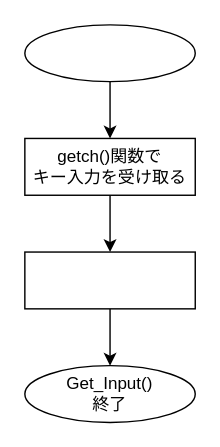
The diagram is 220 pixels wide and 447 high, and some of its shapes have lost their labels. The box of each missing label's shape, as (x1, y1, x2, y2) in pixels:
Get_Input() 開始: (23, 23, 195, 82)
受け取った キー入力を返す: (23, 251, 195, 309)
